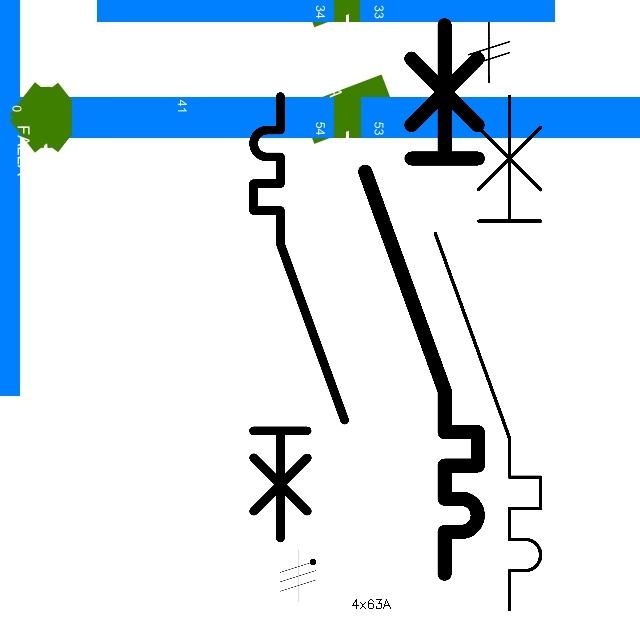interruptor_termomagnetico: (351, 11, 492, 588), (422, 83, 554, 623), (242, 85, 355, 549)
